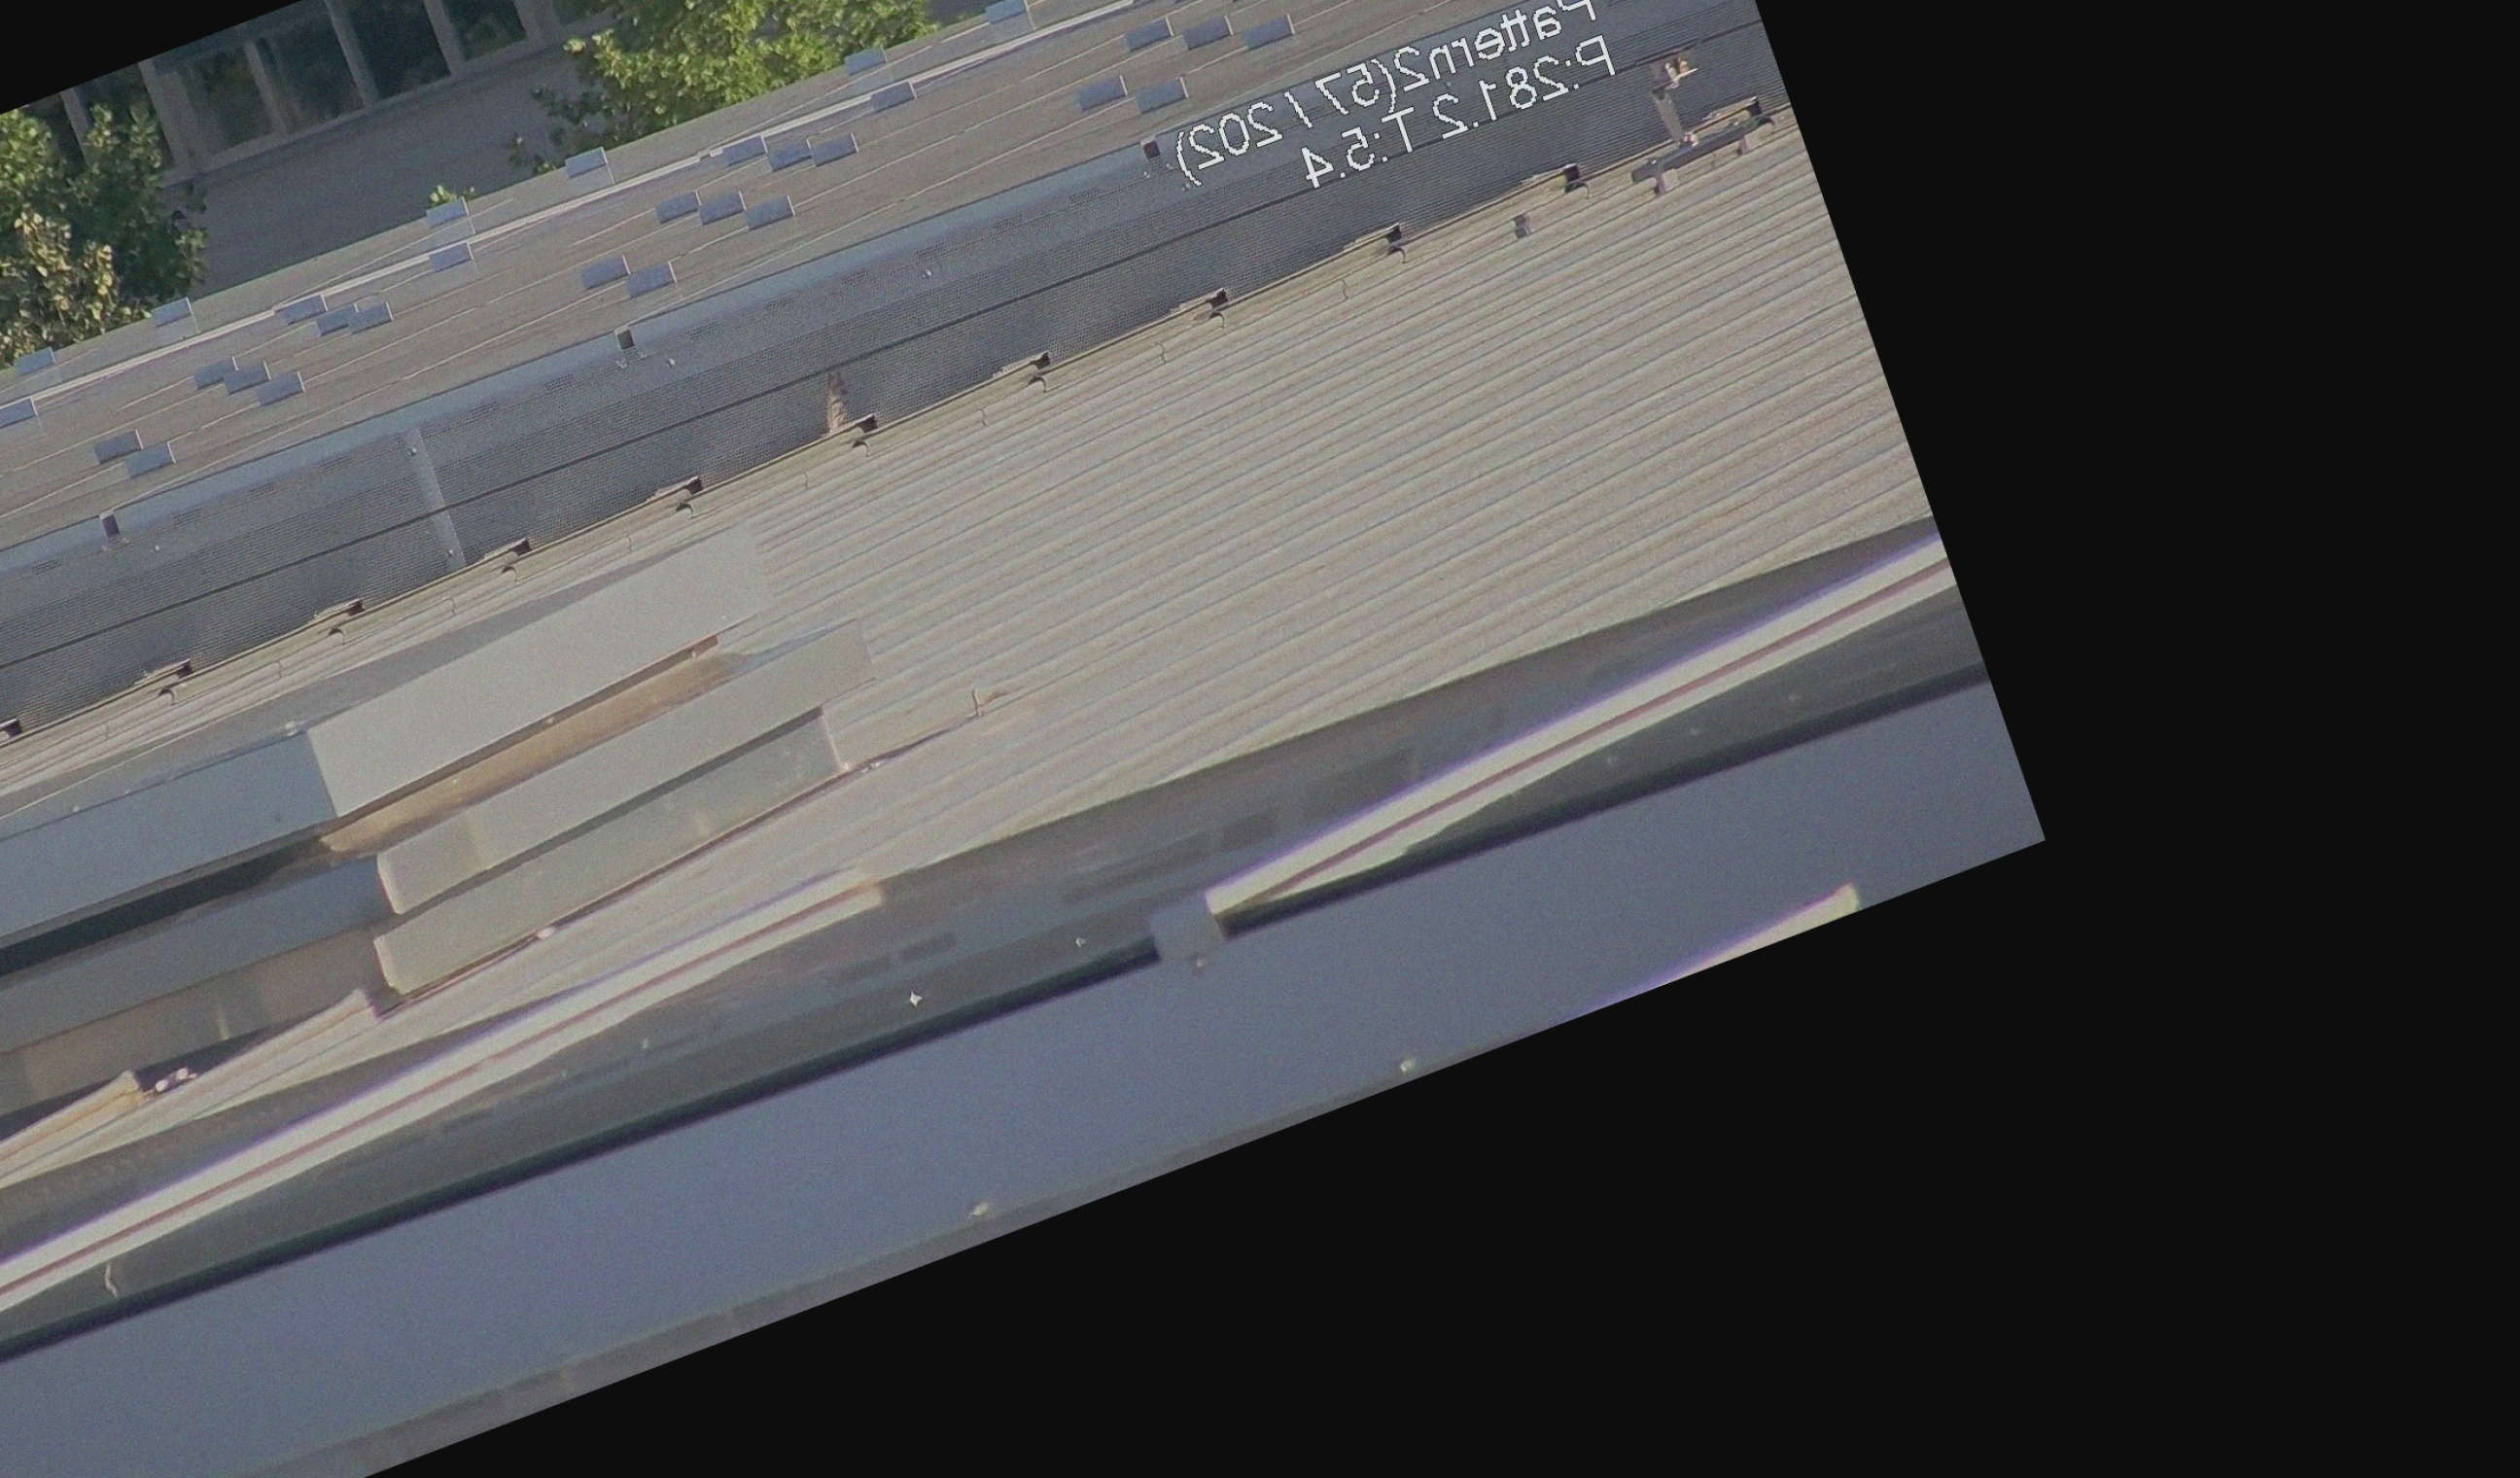Other: (800, 341, 895, 466)
